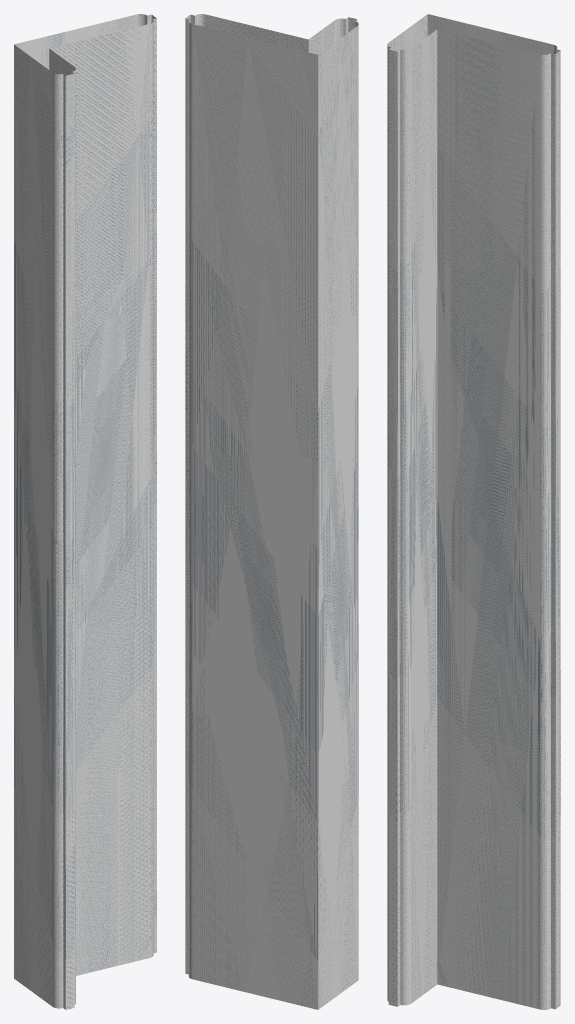
Rendered from PW_CornerFixElem_ds_T1_035x060x010x400.dae.
3 renders of one model, left to right at view 1: azimuth 30°, elevation 25°; view 2: azimuth 150°, elevation 25°; view 3: azimuth 330°, elevation 25°, orthographic. The views are drawn at different scales.
Visible parts, largest first — view 1: group_0; view 2: group_0; view 3: group_0.
Part boxes in pixels (bbox=[...]): group_0: bbox=[14, 14, 156, 1009]; group_0: bbox=[185, 14, 358, 1009]; group_0: bbox=[387, 14, 560, 1009].
Size of the model in its own units: 23.62 by 13.78 by 157.
